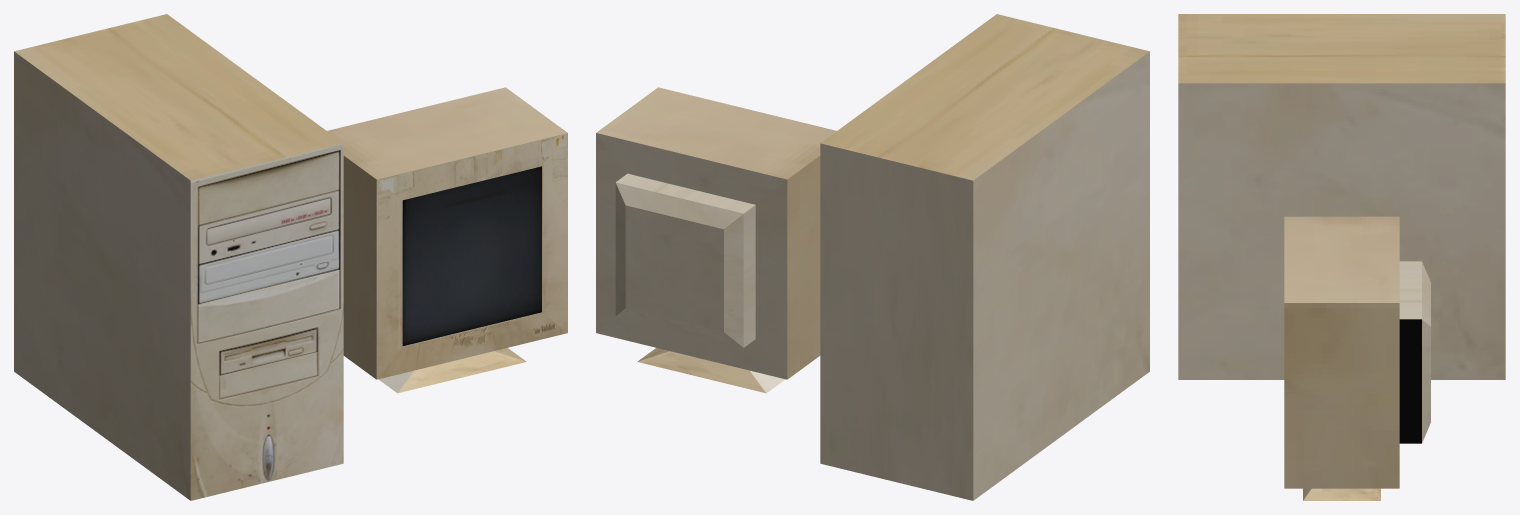
File: computer.glb
The picture shows the model from 3 angles, left to right: view 1: azimuth 30°, elevation 25°; view 2: azimuth 150°, elevation 25°; view 3: azimuth 270°, elevation 25°; orthographic projection. The views are drawn at different scales.
Parts seen in each view (by area): view 1: Cube, Cube.001; view 2: Cube, Cube.001; view 3: Cube, Cube.001.
Boxes of the visible parts, bbox=[...] form: Cube: bbox=[14, 14, 343, 500]; Cube.001: bbox=[327, 87, 567, 393]; Cube: bbox=[820, 14, 1149, 500]; Cube.001: bbox=[596, 87, 836, 393]; Cube: bbox=[1178, 14, 1505, 379]; Cube.001: bbox=[1284, 216, 1430, 500].
Size of the model in its own units: 1.14 by 0.8214 by 0.8.
Materials: 2 (2 with a texture image).
